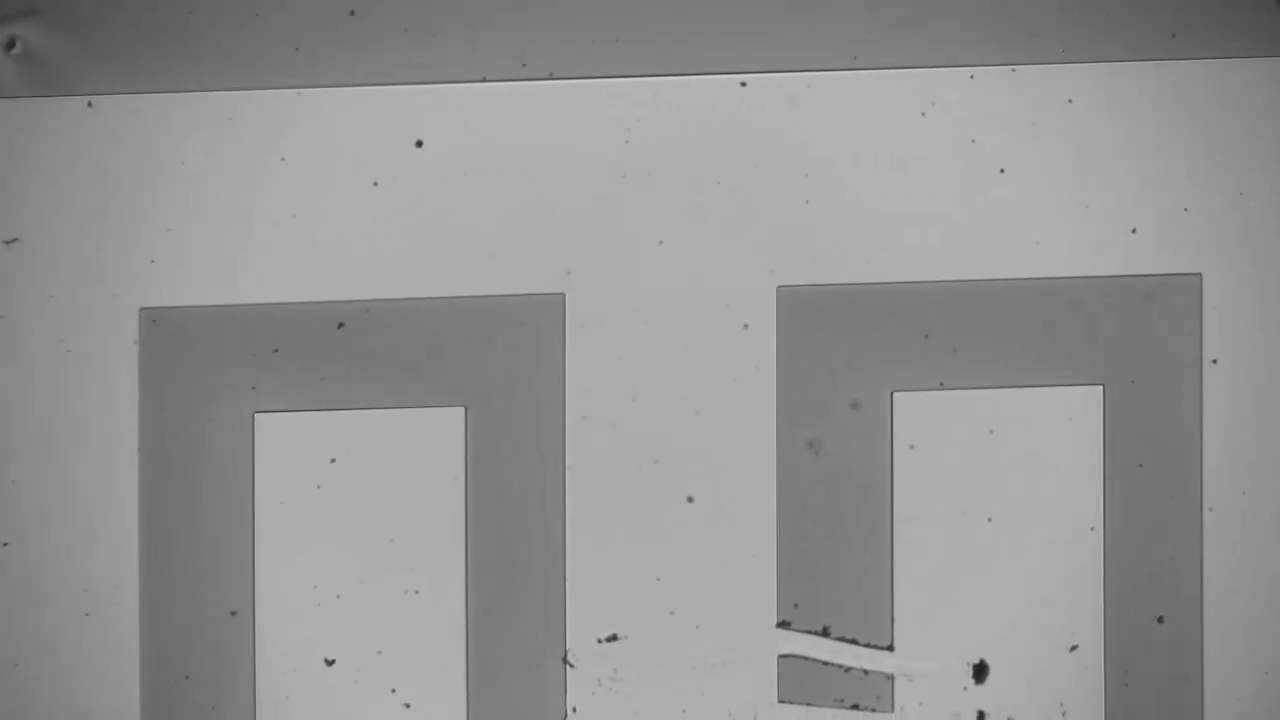Short_circuit: (741, 590, 931, 695)
